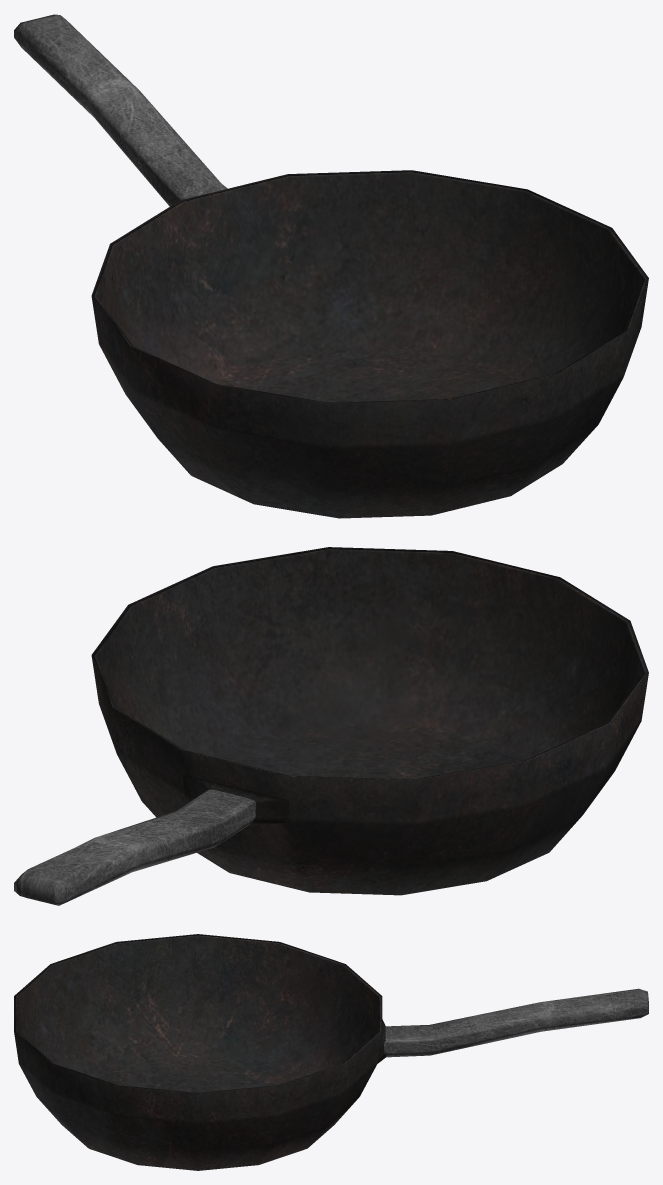
File: Wok pan.fbx
The picture shows the model from 3 angles, top to bottom: view 1: azimuth 30°, elevation 25°; view 2: azimuth 150°, elevation 25°; view 3: azimuth 270°, elevation 25°; orthographic projection. The views are drawn at different scales.
Visible parts, largest first — view 1: pCylinder1; view 2: pCylinder1; view 3: pCylinder1.
Part boxes in pixels (bbox=[...]): pCylinder1: bbox=[14, 14, 648, 518]; pCylinder1: bbox=[14, 547, 648, 905]; pCylinder1: bbox=[14, 934, 648, 1170].
Bounding box in the file's own units: 2.68 × 0.924 × 4.51.
Materials: 1 (1 with a texture image).
